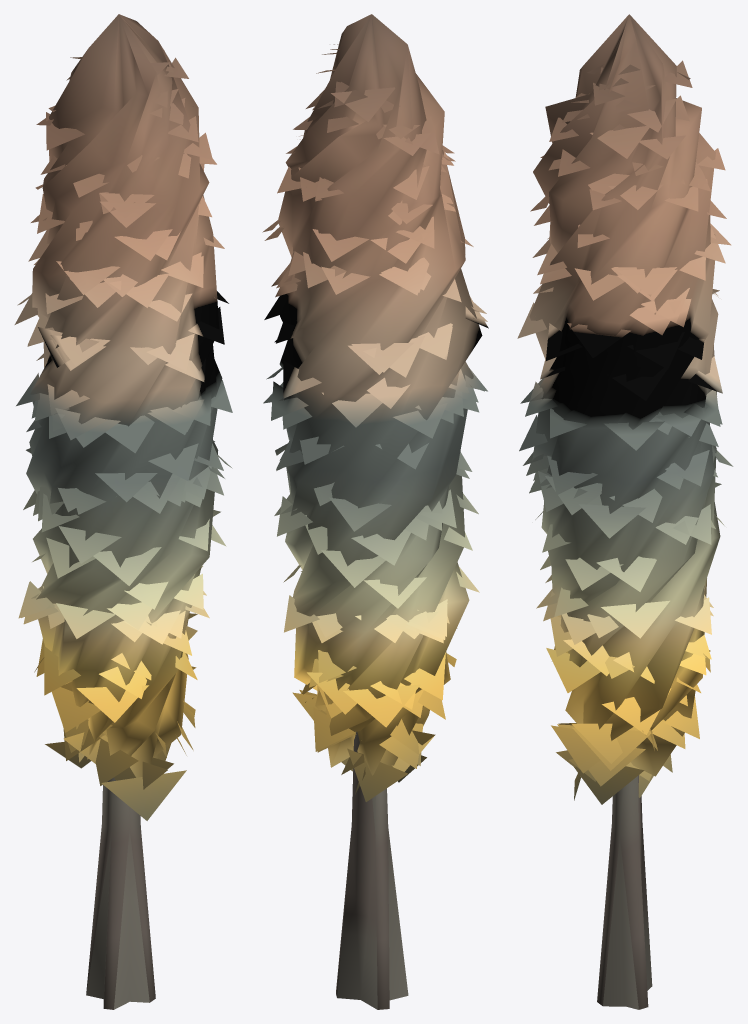
File: Tree_5D.fbx
3 views of the same model, side by side, from view 1: azimuth 30°, elevation 25°; view 2: azimuth 150°, elevation 25°; view 3: azimuth 270°, elevation 25° (orthographic).
Parts seen in each view (by area): view 1: Tree_5D; view 2: Tree_5D; view 3: Tree_5D.
Part boxes in pixels (left/top/right/bottom): Tree_5D: left=14, top=14, right=232, bottom=1009; Tree_5D: left=262, top=14, right=488, bottom=1009; Tree_5D: left=517, top=14, right=733, bottom=1009.
Bounding box in the file's own units: 4.34 × 20.8 × 4.16.
